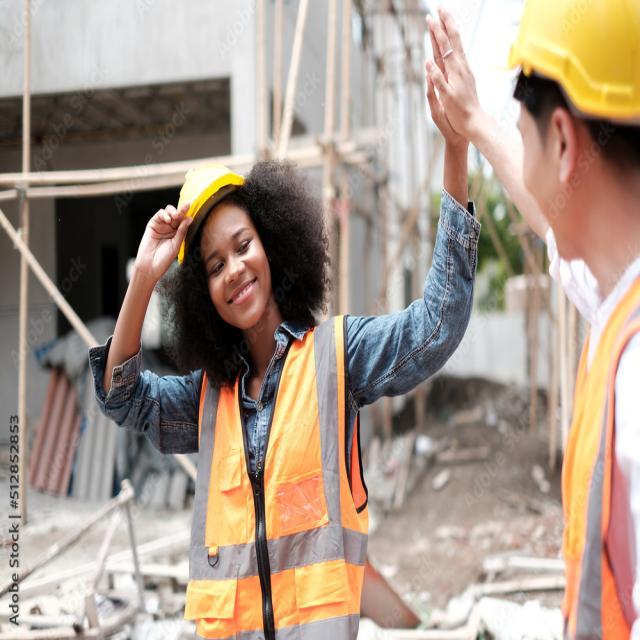helmet: (504, 0, 640, 140), (147, 150, 254, 264)
no-goggles: (201, 229, 276, 296)
vest: (184, 312, 370, 640), (555, 264, 640, 640)
